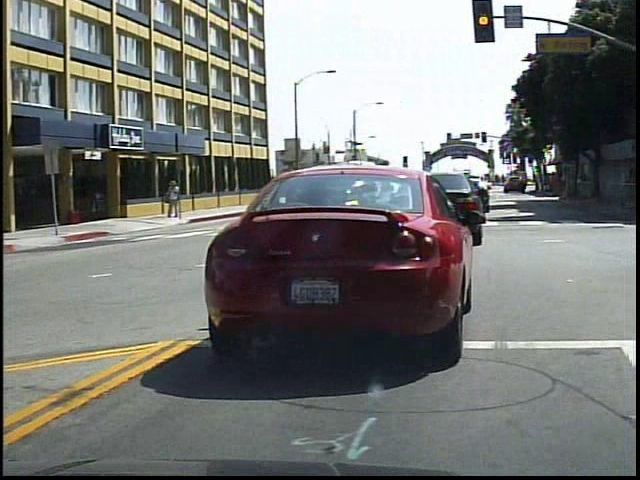person: (164, 176, 185, 223)
